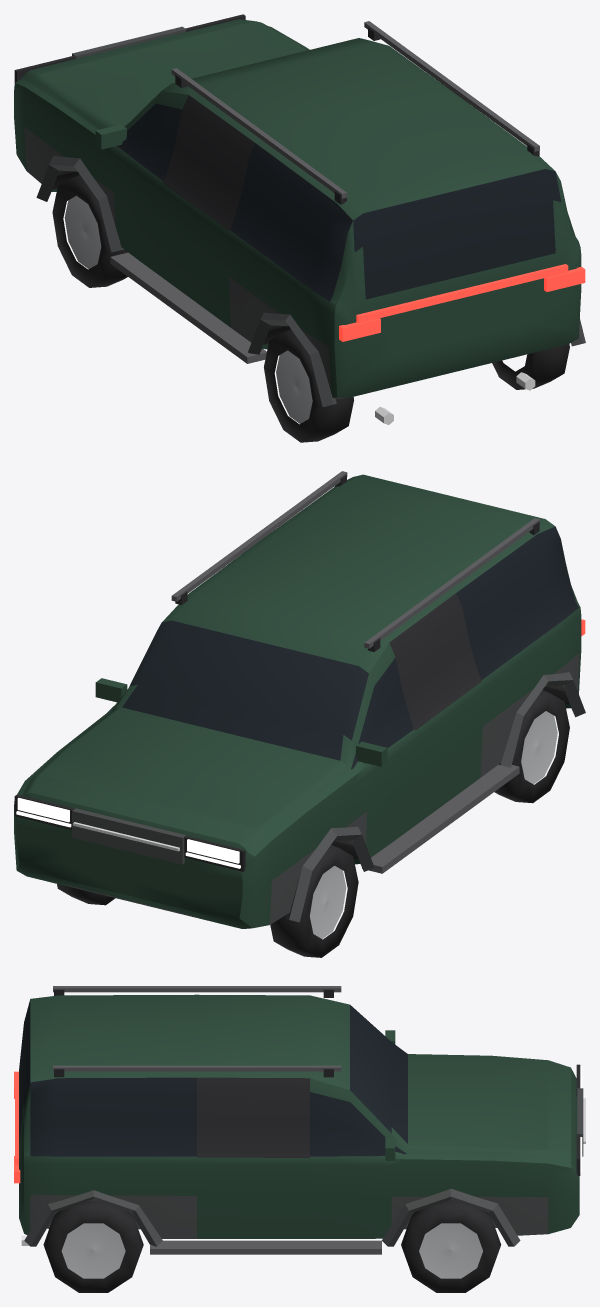
File: suv_lod1.glb
3 renders of one model, top to bottom at view 1: azimuth 30°, elevation 25°; view 2: azimuth 150°, elevation 25°; view 3: azimuth 270°, elevation 25°, orthographic. The views are drawn at different scales.
Visible parts, largest first — view 1: body, wheel_rl, wheel_fl, wheel_rr; view 2: body, wheel_fl, wheel_rl; view 3: body, wheel_rr, wheel_fr.
Part boxes in pixels (x1=…): body: x1=14, y1=14, x2=585, y2=424; wheel_rl: x1=264, y1=329, x2=353, y2=442; wheel_fl: x1=52, y1=175, x2=127, y2=287; wheel_rr: x1=492, y1=344, x2=569, y2=389; body: x1=14, y1=471, x2=585, y2=928; wheel_fl: x1=270, y1=844, x2=358, y2=957; wheel_rl: x1=494, y1=690, x2=569, y2=803; body: x1=14, y1=986, x2=585, y2=1254; wheel_rr: x1=43, y1=1200, x2=143, y2=1292; wheel_fr: x1=401, y1=1200, x2=501, y2=1292.
Size of the model in its own units: 2.23 by 1.91 by 4.56.
2 materials, 1 textured.
